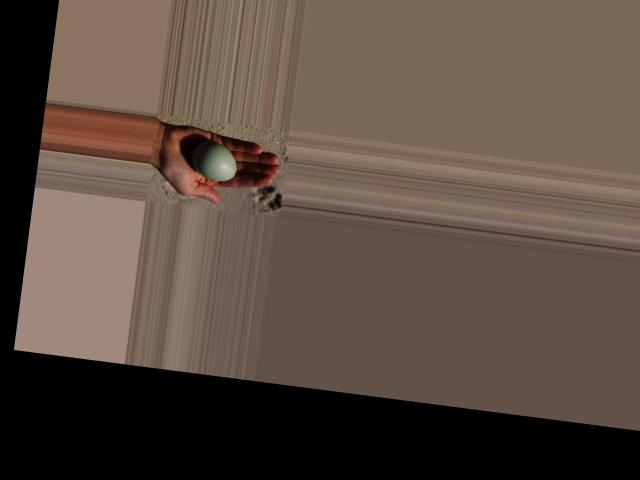egg: (190, 138, 239, 182)
